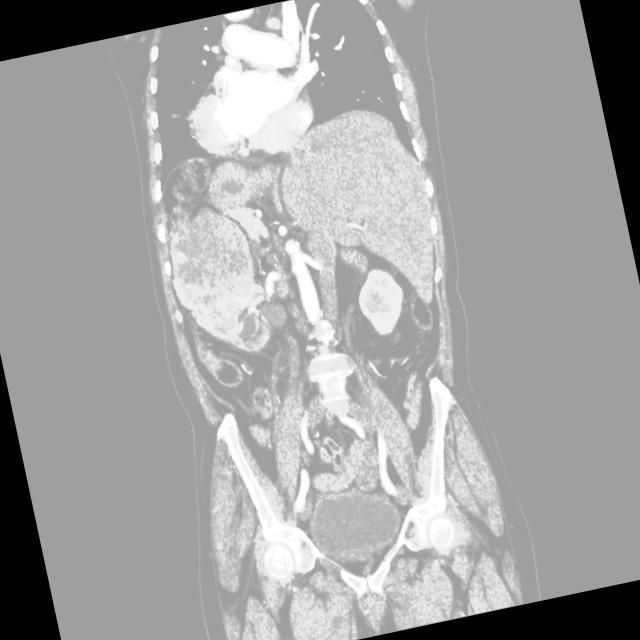TUMOR: (114, 173, 519, 469)
